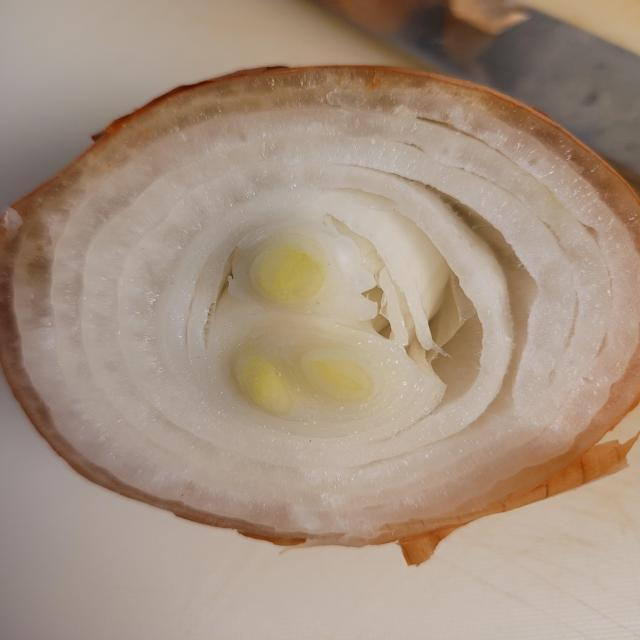Onion: (4, 59, 640, 566)
